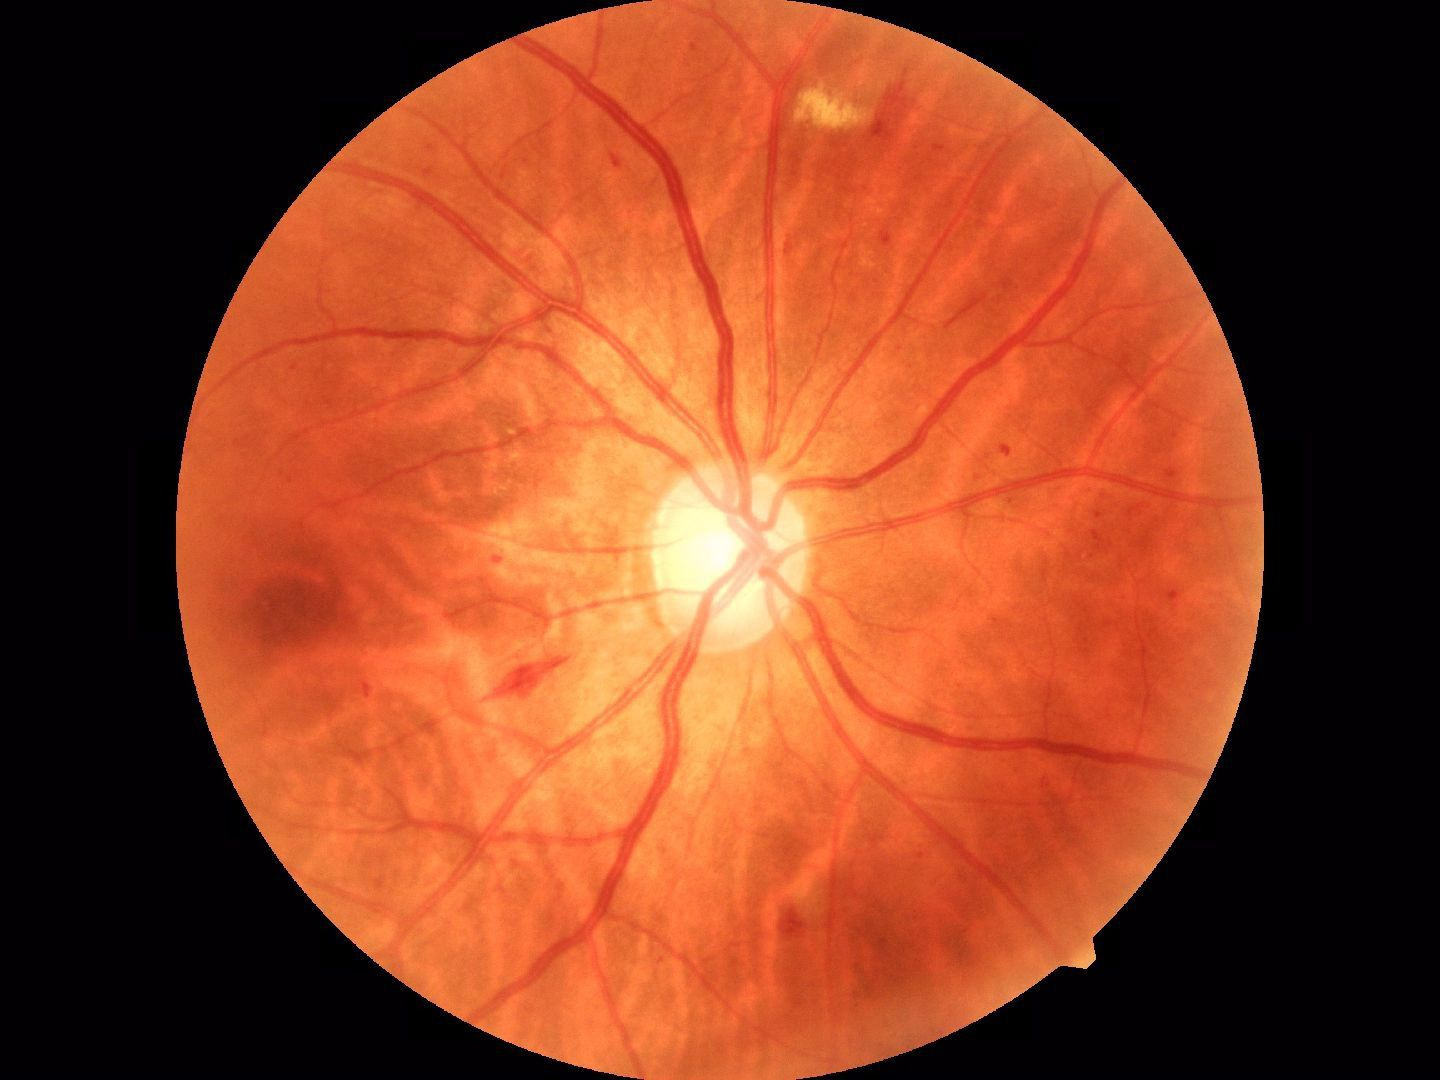Arterioles: (399, 185, 590, 436), (410, 803, 646, 1001)
Exudates: (783, 69, 875, 140)
Optic-Disc: (649, 452, 825, 663)
Venules: (663, 176, 751, 442), (659, 681, 689, 802)
